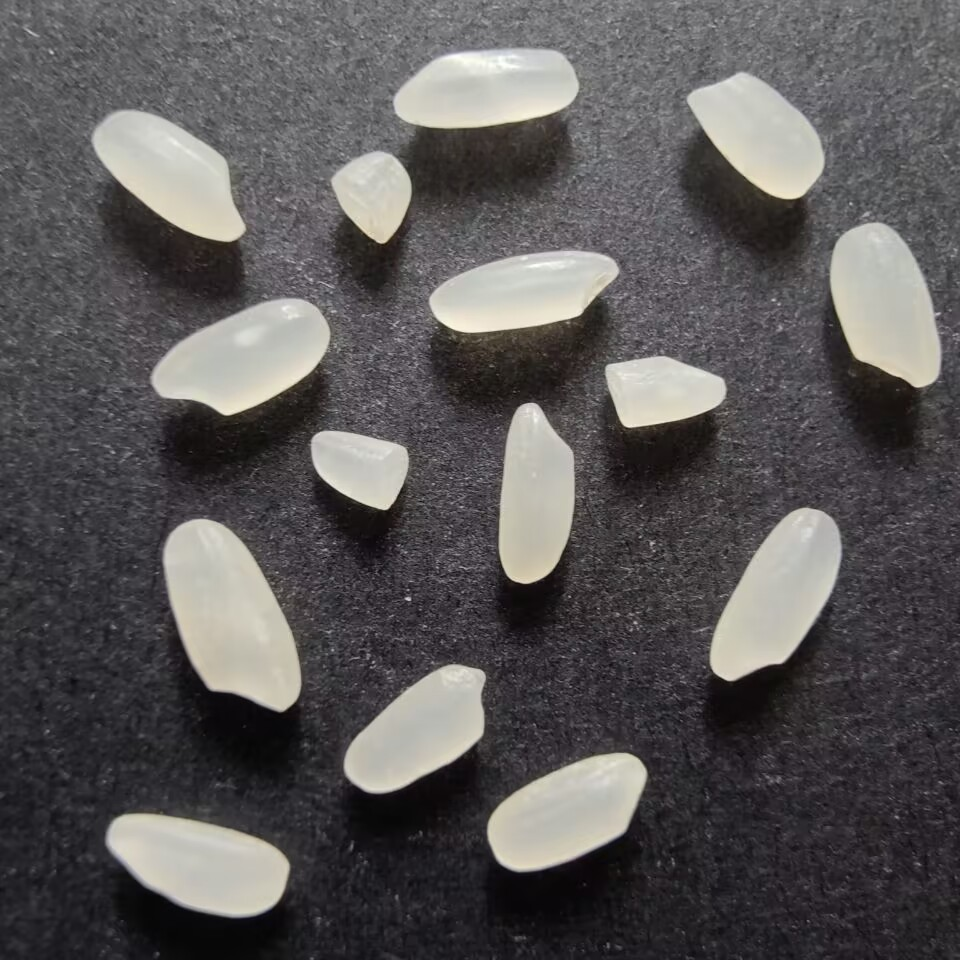broken: (600, 353, 732, 431), (303, 426, 413, 514), (325, 147, 415, 248)
rice: (158, 512, 304, 716), (705, 502, 846, 684), (149, 294, 331, 418), (90, 107, 250, 246), (482, 747, 650, 878), (103, 810, 295, 923), (824, 217, 943, 395), (340, 661, 493, 799), (683, 69, 831, 204), (390, 42, 581, 135), (426, 244, 619, 335), (494, 397, 582, 586)
